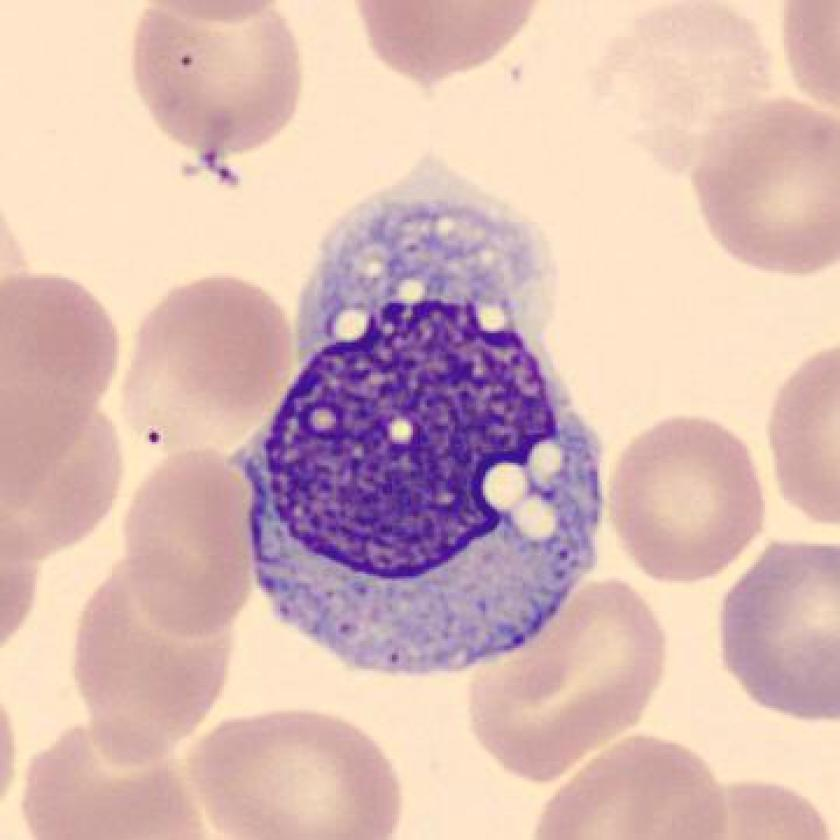monocyte: (223, 140, 631, 695)
